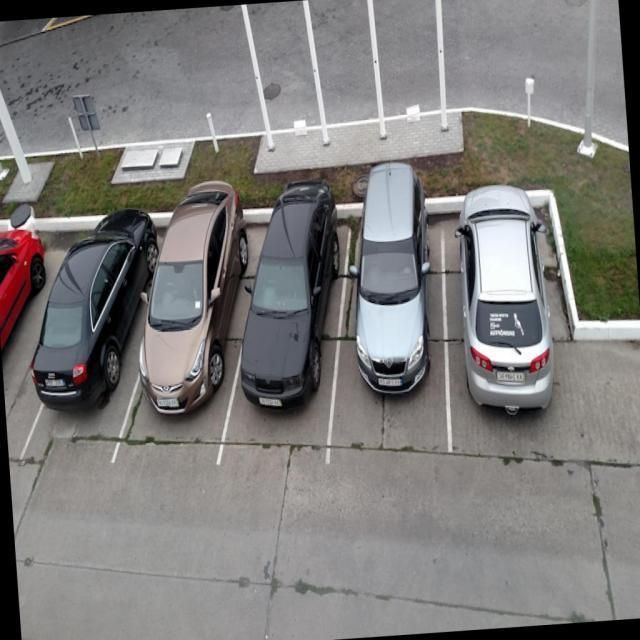space-occupied: (210, 203, 364, 468), (126, 204, 281, 457), (318, 211, 461, 456), (440, 203, 576, 449), (30, 222, 172, 452), (0, 205, 76, 450)
